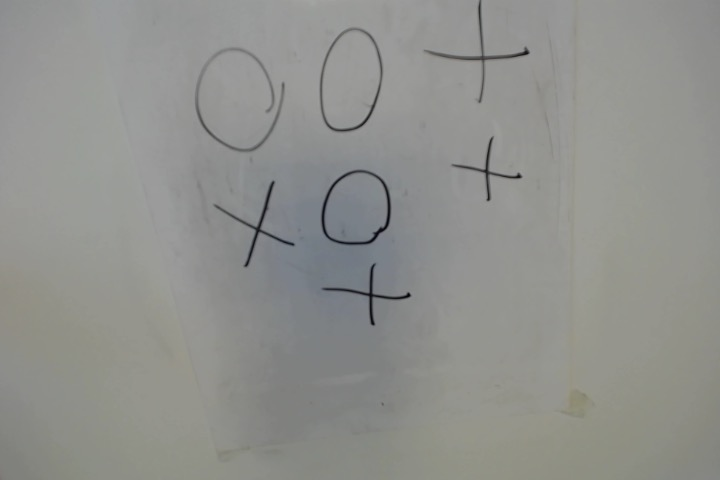0: (192, 45, 291, 154), (315, 26, 385, 137), (320, 167, 394, 251)
x: (419, 0, 535, 105), (208, 176, 298, 271), (323, 263, 418, 328), (450, 133, 521, 205)
